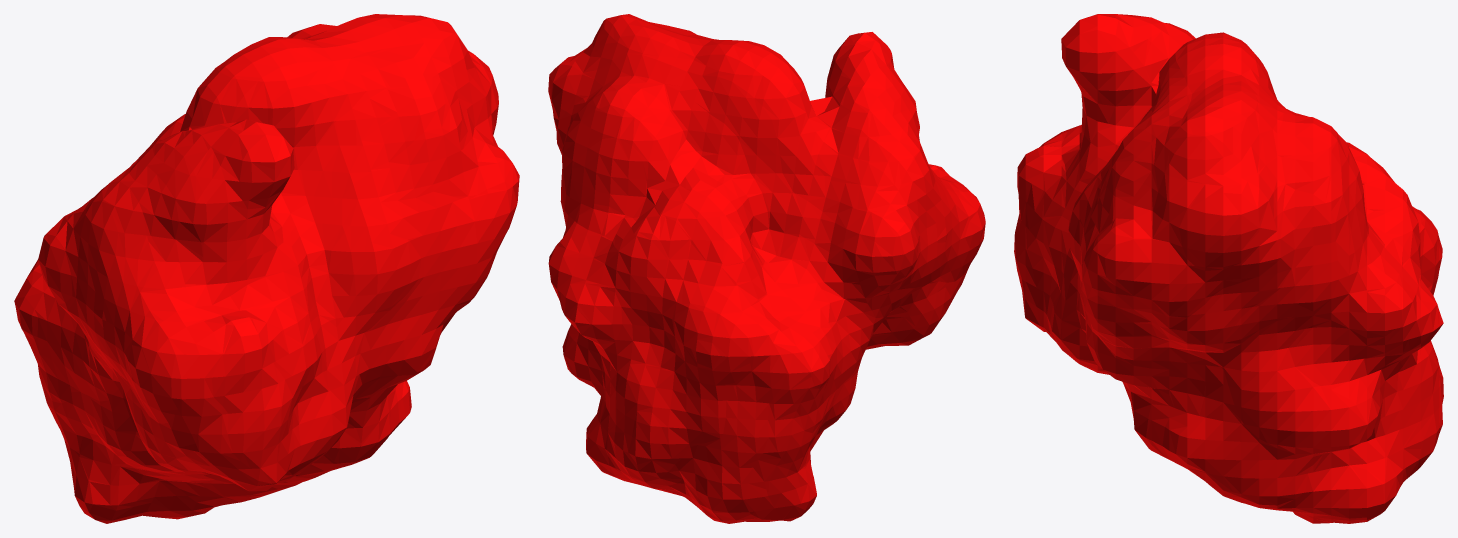
The model's file is glpD_coarse.dae.
3 renders of one model, left to right at view 1: azimuth 30°, elevation 25°; view 2: azimuth 150°, elevation 25°; view 3: azimuth 270°, elevation 25°, orthographic. The views are drawn at different scales.
Visible parts, largest first — view 1: glpD; view 2: glpD; view 3: glpD.
Part boxes in pixels (<box>): glpD: <box>14,14,519,523</box>; glpD: <box>548,14,985,523</box>; glpD: <box>1014,14,1443,523</box>.
Size of the model in its own units: 63.76 by 70.47 by 57.35.
